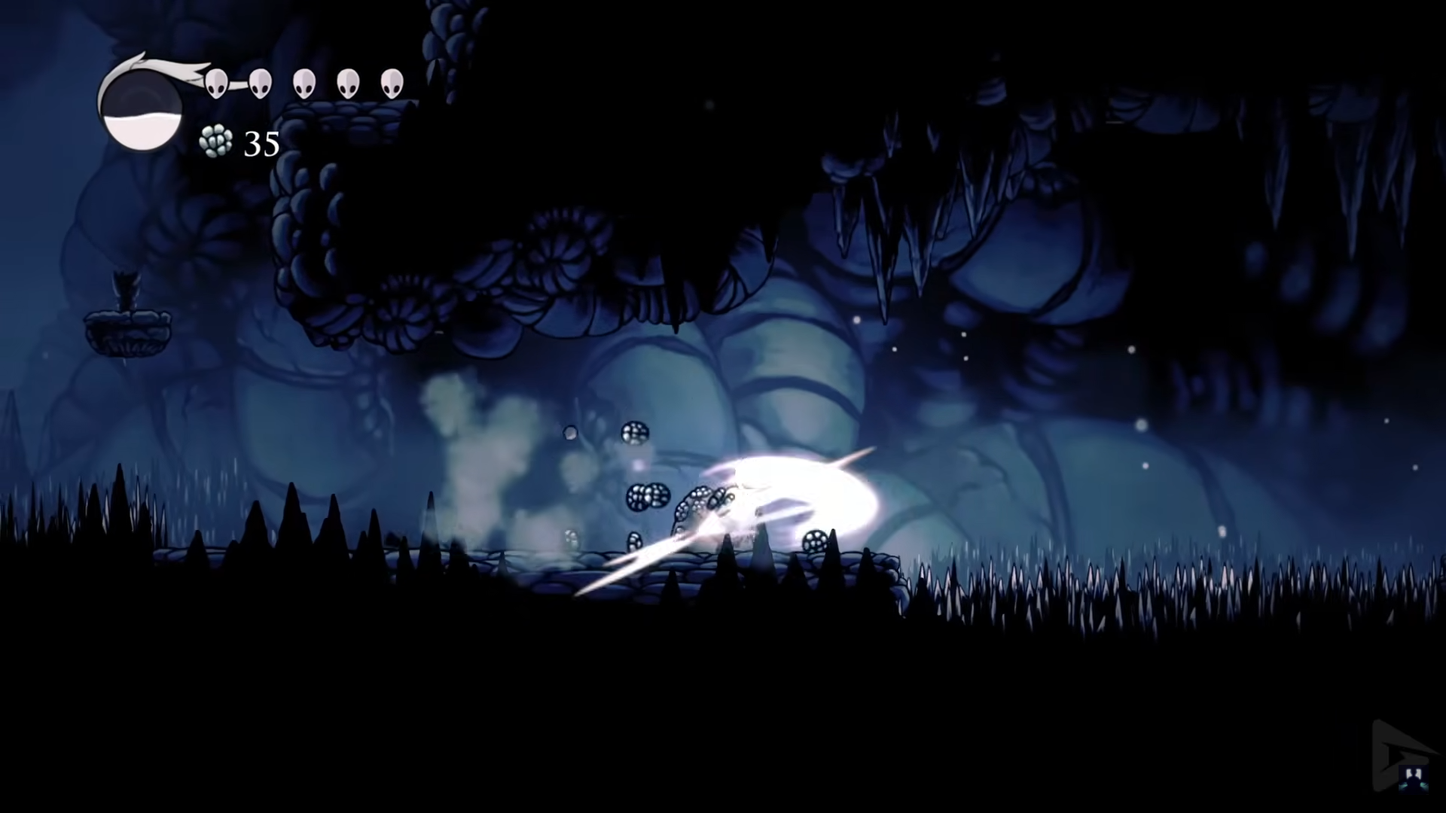HK: (714, 462, 785, 556)
